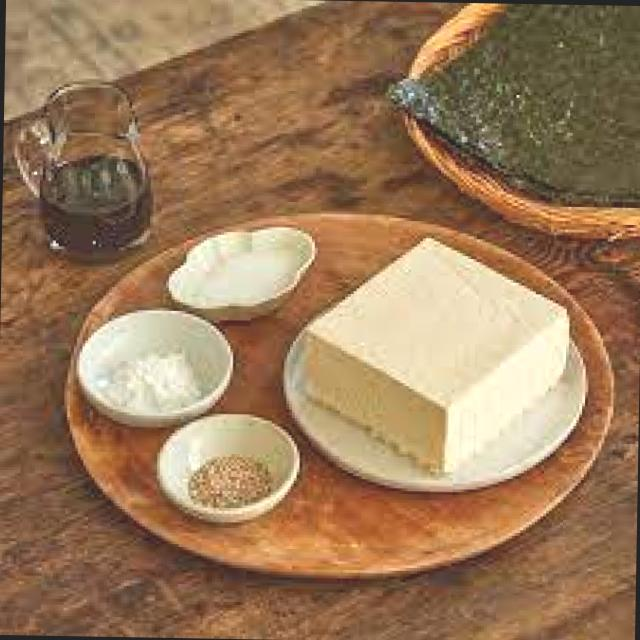tof: (296, 224, 582, 486)
